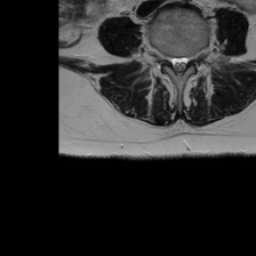CCS_normal: (175, 48, 182, 81)
LFS_normal: (189, 44, 197, 72)
LLS_normal: (182, 47, 189, 79)
RFS_stenosis: (161, 45, 168, 71)
RLS_normal: (168, 47, 175, 76)
